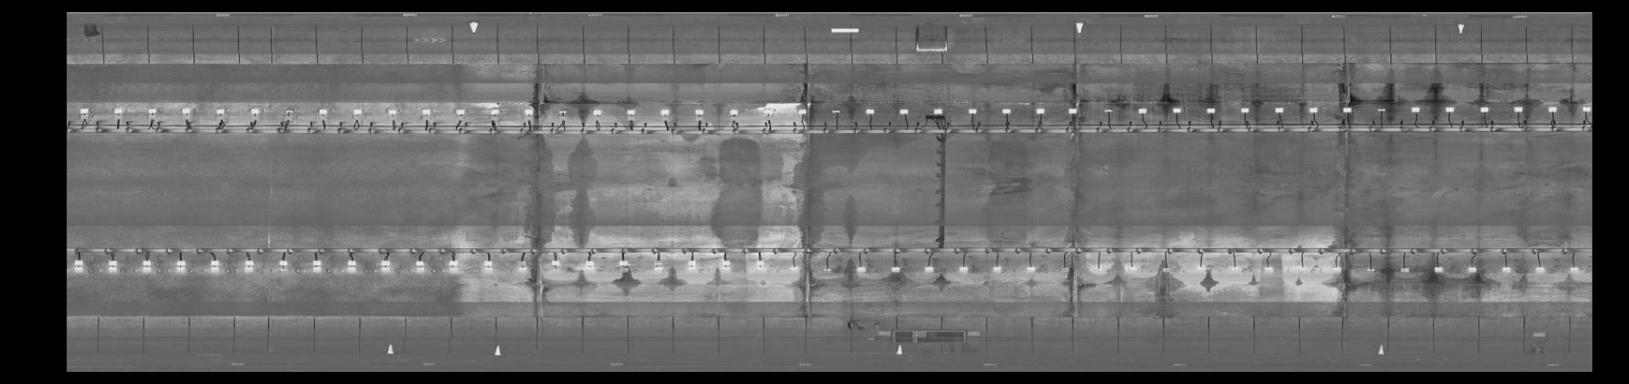light: (342, 256, 363, 277), (308, 258, 328, 276), (268, 257, 290, 274), (541, 258, 567, 272), (377, 257, 396, 275), (1564, 263, 1584, 278), (1054, 263, 1075, 278), (348, 103, 369, 118), (1394, 264, 1415, 278), (757, 104, 778, 118), (478, 259, 500, 273), (1496, 262, 1514, 278), (1201, 103, 1220, 118), (954, 264, 973, 278), (520, 104, 540, 118), (281, 104, 301, 117), (204, 258, 224, 272), (620, 104, 637, 120), (647, 258, 665, 274), (512, 260, 530, 276), (444, 259, 461, 275), (410, 260, 428, 276), (1303, 103, 1321, 117), (579, 259, 600, 272), (141, 105, 163, 117), (239, 258, 258, 273), (1462, 263, 1481, 276), (1427, 265, 1447, 278), (449, 106, 469, 119), (1270, 103, 1286, 118), (1154, 264, 1175, 276), (1087, 264, 1107, 276), (1257, 262, 1275, 276), (1122, 263, 1141, 276), (749, 260, 768, 274), (416, 104, 434, 117), (75, 104, 94, 117), (69, 259, 87, 273), (177, 106, 196, 118), (683, 257, 698, 273), (1440, 103, 1457, 117), (587, 104, 604, 118), (613, 258, 630, 273), (487, 105, 502, 121), (314, 104, 330, 118), (893, 104, 911, 117), (172, 259, 190, 273), (851, 264, 870, 276), (689, 106, 707, 118), (382, 106, 401, 118), (103, 260, 122, 273), (1361, 262, 1377, 276), (1373, 103, 1390, 116), (1065, 104, 1081, 117), (989, 263, 1006, 276), (725, 105, 742, 118), (655, 107, 671, 120), (210, 106, 228, 118), (135, 258, 156, 269), (1131, 105, 1150, 116), (919, 265, 938, 276), (1510, 103, 1524, 117), (1338, 103, 1354, 116), (1033, 104, 1048, 117), (1021, 263, 1037, 276), (247, 104, 263, 117), (1544, 103, 1560, 115), (1407, 103, 1423, 115), (1168, 105, 1185, 116), (963, 104, 981, 115), (1533, 263, 1548, 276), (109, 104, 124, 117), (718, 258, 733, 271), (555, 106, 570, 118), (1193, 260, 1209, 272), (1237, 105, 1252, 117), (888, 265, 903, 277), (998, 105, 1014, 116), (1328, 264, 1344, 274), (818, 265, 834, 275), (862, 107, 879, 117), (792, 107, 808, 117), (1478, 103, 1492, 115), (1226, 263, 1244, 272), (1296, 263, 1311, 273), (931, 106, 947, 115), (1577, 103, 1591, 114), (829, 107, 844, 117), (785, 265, 800, 274), (1101, 106, 1115, 115)
